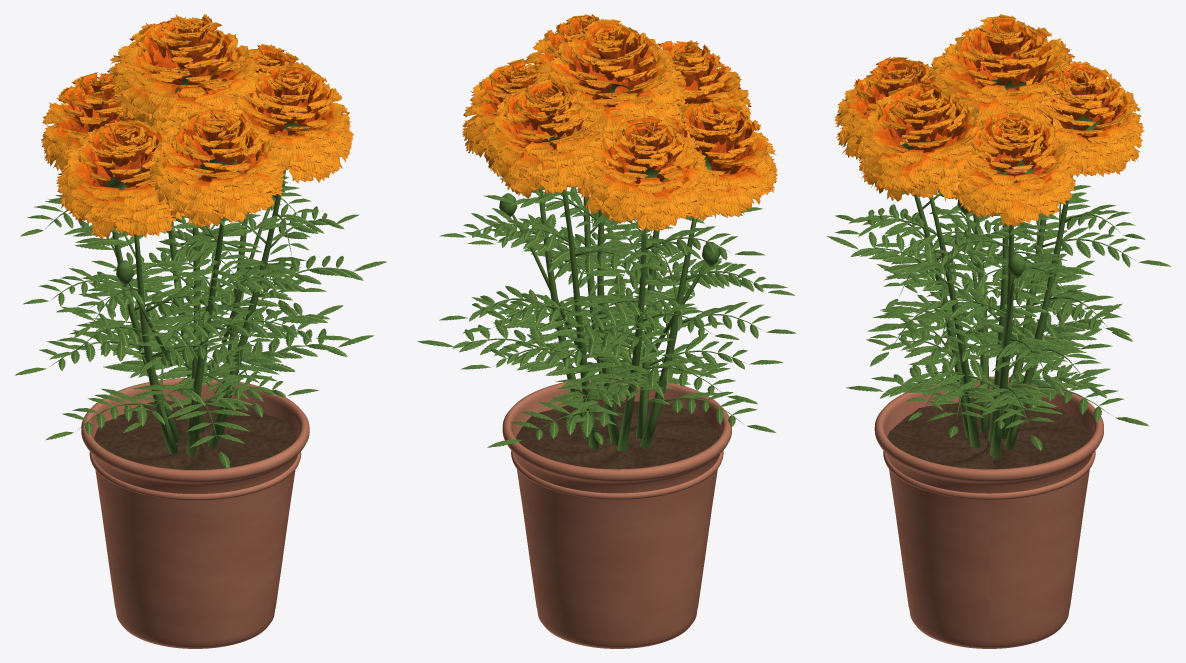
Rendered from maceta_cempasuchil.gltf.
3 views of the same model, side by side, from view 1: azimuth 30°, elevation 25°; view 2: azimuth 150°, elevation 25°; view 3: azimuth 270°, elevation 25° (orthographic).
Visible parts, largest first — view 1: maceta_cempasuchil_optimizado; view 2: maceta_cempasuchil_optimizado; view 3: maceta_cempasuchil_optimizado.
Part boxes in pixels (<box>): maceta_cempasuchil_optimizado: <box>14,14,386,648</box>; maceta_cempasuchil_optimizado: <box>417,14,796,648</box>; maceta_cempasuchil_optimizado: <box>827,14,1171,648</box>.
Size of the model in its own units: 0.2558 by 0.4319 by 0.226.
1 material, 1 textured.
